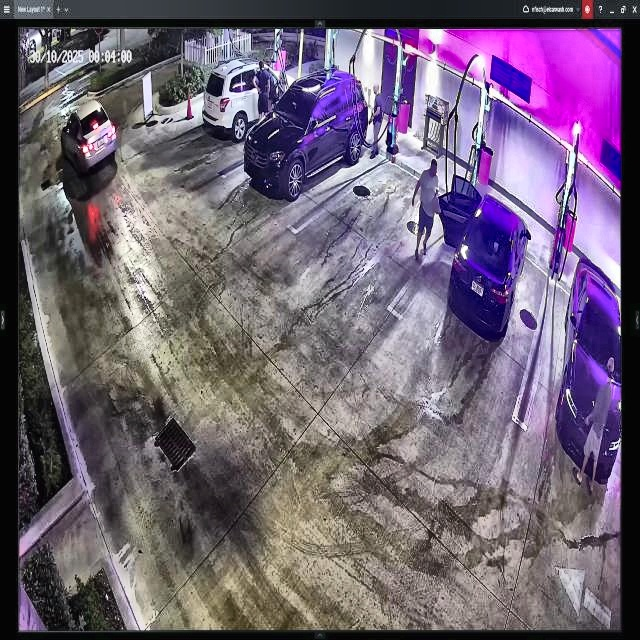Car: (246, 73, 370, 198), (439, 172, 531, 334)
